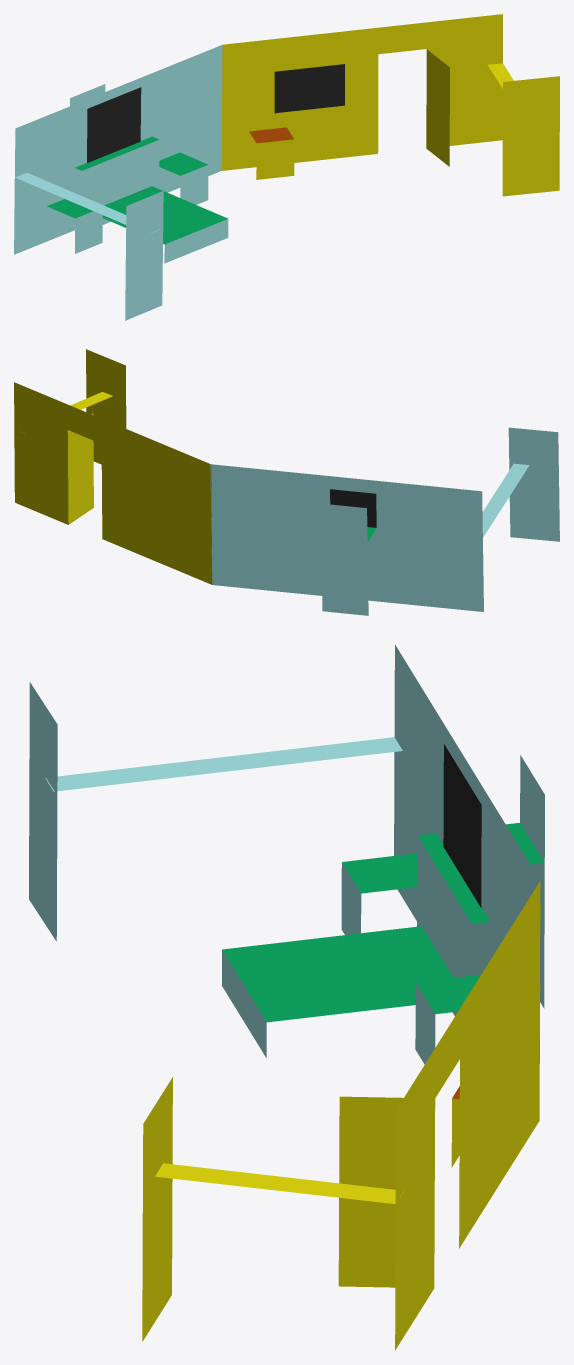
The model's file is room1_safeelement_pfall_bropen.fbx.
3 views of the same model, one above another, from view 1: azimuth 30°, elevation 25°; view 2: azimuth 150°, elevation 25°; view 3: azimuth 270°, elevation 25° (orthographic). The views are drawn at different scales.
Parts seen in each view (by area): view 1: REF_popup_noanim:polySurface6, REF_popup_noanim:F_wall, REF_popup_noanim:F_door, REF_popup_noanim:F_window, REF_popup_noanim:F_headpiece, REF_popup_noanim:polySurface5, REF_popup_noanim:F_painting, REF_popup_noanim:T_bed, REF_popup_noanim:bathroomdoor, REF_popup_noanim:F_phonetable, REF_popup_noanim:F_bed, REF_popup_noanim:T_window (+6 smaller); view 2: REF_popup_noanim:F_wall, REF_popup_noanim:polySurface6, REF_popup_noanim:F_window, REF_popup_noanim:F_safe, REF_popup_noanim:F_door, REF_popup_noanim:bathroomdoor, REF_popup_noanim:T_window, REF_popup_noanim:F_painting; view 3: REF_popup_noanim:polySurface6, REF_popup_noanim:F_wall, REF_popup_noanim:T_bed, REF_popup_noanim:bathroomdoor, REF_popup_noanim:F_door, REF_popup_noanim:F_window, REF_popup_noanim:T_window, REF_popup_noanim:F_headpiece, REF_popup_noanim:F_painting, REF_popup_noanim:T_door, REF_popup_noanim:F_safe, REF_popup_noanim:T_nightstand_L (+5 smaller).
Part boxes in pixels (x1,y1,x2,y2): REF_popup_noanim:polySurface6: (221,14,502,170); REF_popup_noanim:F_wall: (14,45,222,254); REF_popup_noanim:F_door: (502,76,559,196); REF_popup_noanim:F_window: (125,191,163,320); REF_popup_noanim:F_headpiece: (81,140,159,224); REF_popup_noanim:polySurface5: (274,64,344,113); REF_popup_noanim:F_painting: (87,87,141,162); REF_popup_noanim:T_bed: (102,186,227,244); REF_popup_noanim:bathroomdoor: (426,49,449,166); REF_popup_noanim:F_phonetable: (256,139,294,179); REF_popup_noanim:F_bed: (164,219,228,263); REF_popup_noanim:T_window: (15,172,159,234); REF_popup_noanim:F_wall: (210,464,483,611); REF_popup_noanim:polySurface6: (14,382,212,584); REF_popup_noanim:F_window: (508,427,559,541); REF_popup_noanim:F_safe: (321,503,368,615); REF_popup_noanim:F_door: (86,349,126,464); REF_popup_noanim:bathroomdoor: (67,413,93,524); REF_popup_noanim:T_window: (482,463,529,537); REF_popup_noanim:F_painting: (330,489,376,527); REF_popup_noanim:polySurface6: (395,880,540,1350); REF_popup_noanim:F_wall: (394,644,540,1059); REF_popup_noanim:T_bed: (222,926,453,1022); REF_popup_noanim:bathroomdoor: (338,1096,403,1287); REF_popup_noanim:F_door: (142,1077,172,1341); REF_popup_noanim:F_window: (29,682,57,941); REF_popup_noanim:T_window: (45,737,402,791); REF_popup_noanim:F_headpiece: (417,836,471,1015); REF_popup_noanim:F_painting: (443,744,481,907); REF_popup_noanim:T_door: (155,1163,403,1204); REF_popup_noanim:F_safe: (520,755,544,1008); REF_popup_noanim:T_nightstand_L: (342,853,417,893).
Bounding box in the file's own units: 96.32 × 45.86 × 24.57.
